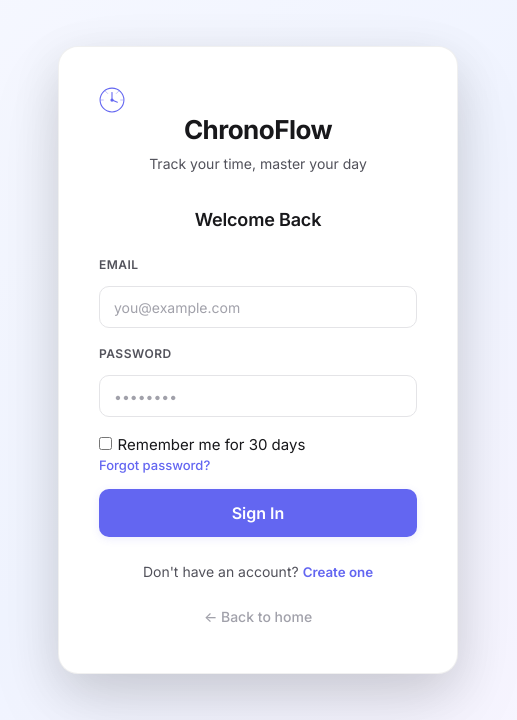
Test: Login › Remember Me Checkbox › does not show remember me checkbox on register form
This screenshot has width=517, height=720.
// Switch to register mode
Click the button "Create one".
click(338, 572)  # box [303,564,373,580]
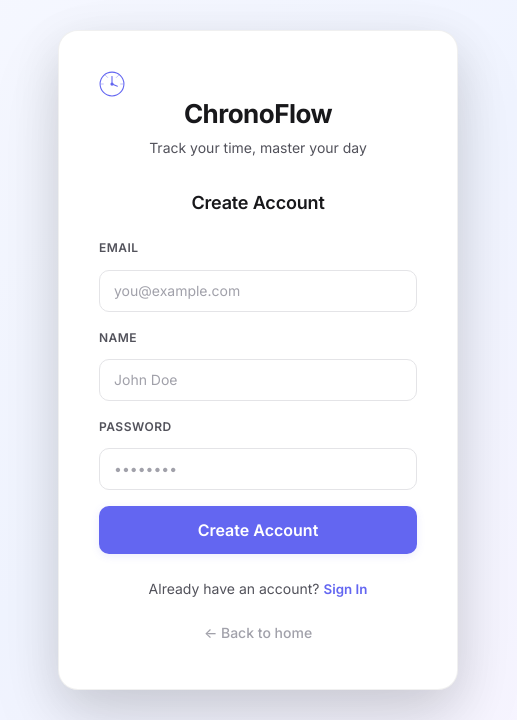
Check: the checkbox is gone
Check: the text "Remember me for 30 days" is gone
